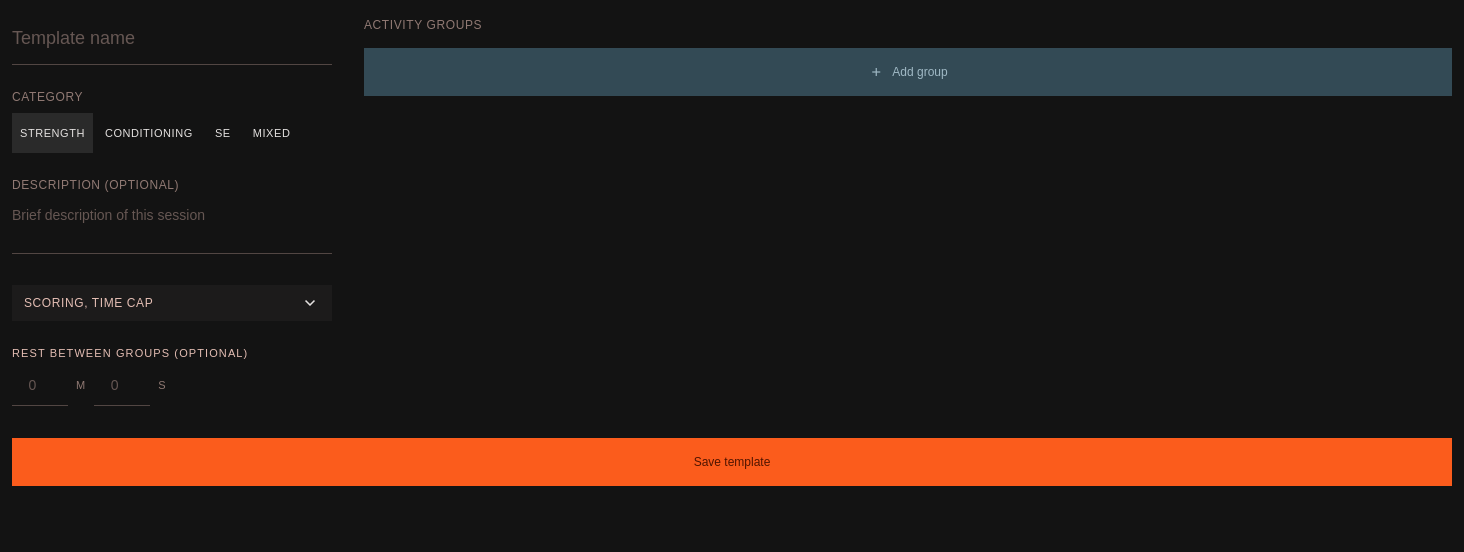
Test: SessionTemplateForm › shows validation error when saving with no activity groups
The width and height of the screenshot is (1464, 552).
// Fill in name but don't add groups
Type "My Session" into the field labelled "Template name". click: (172,38)
box: [12,12,332,65]
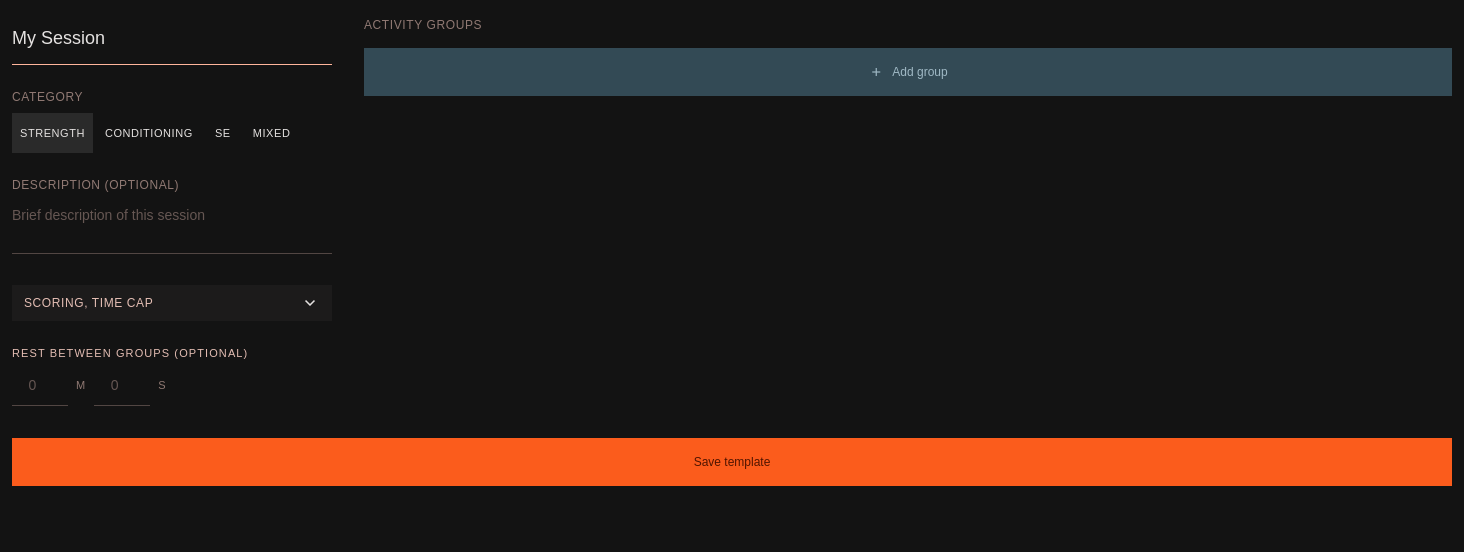
Click the button "Save template". click: (732,462)
box: [12,438,1452,486]
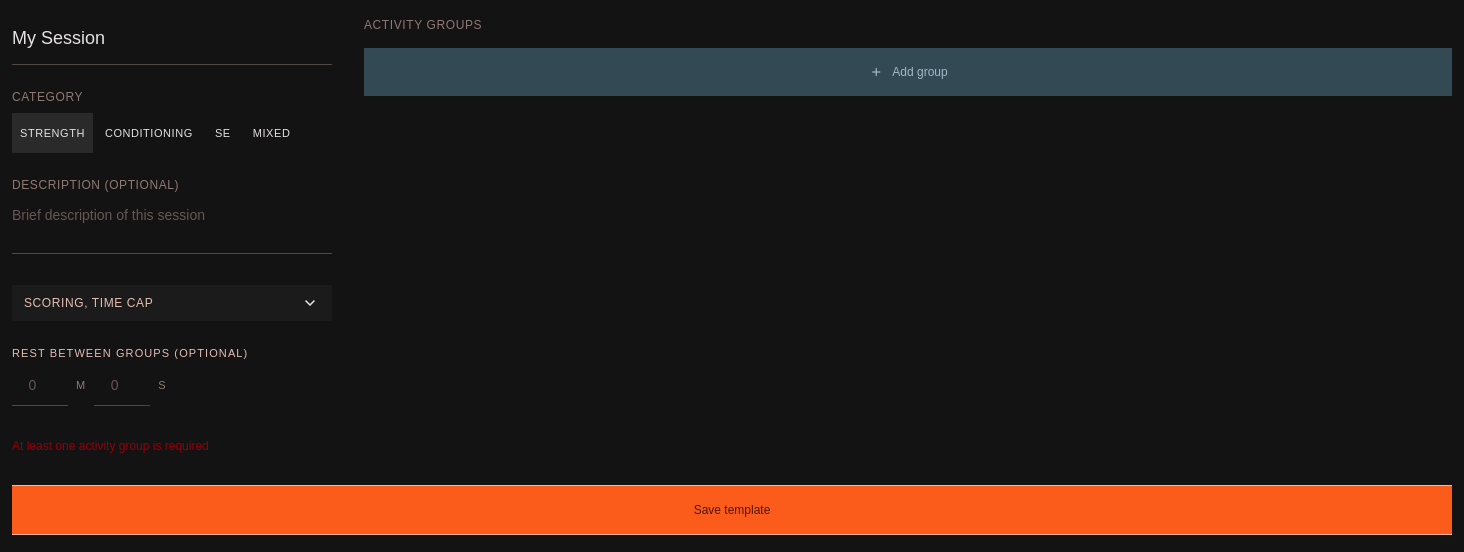
Expected: the text "At least one activity group is required" is shown, [12,438,209,452]
